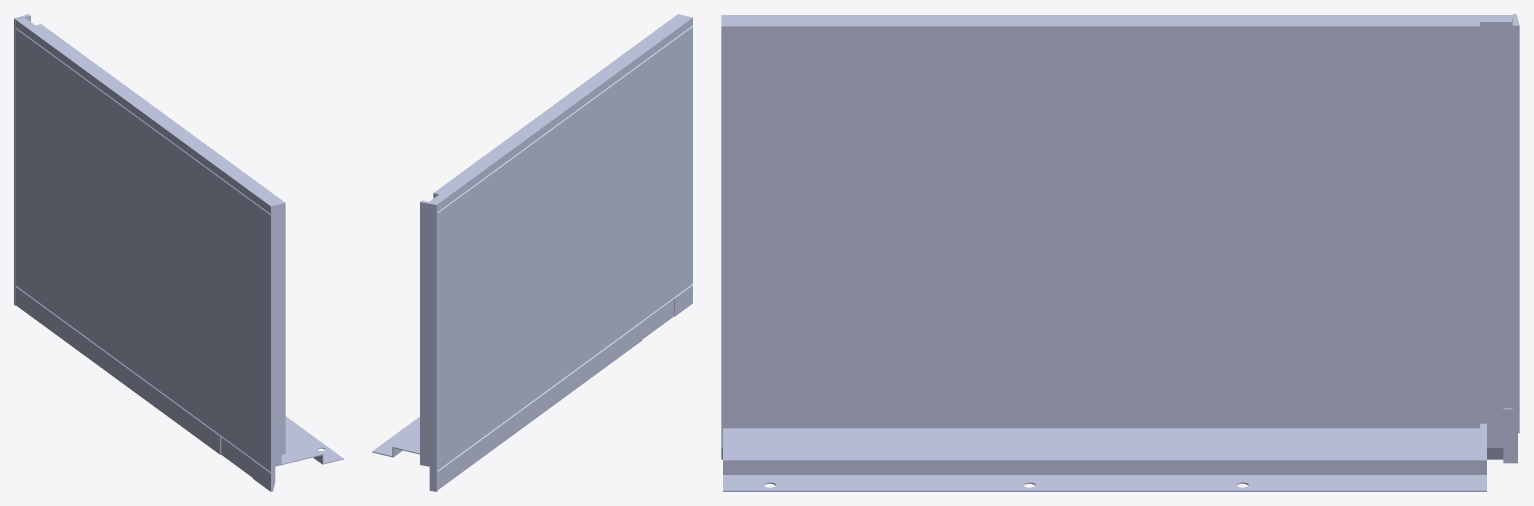
The model's file is lg-kava-F400-p.glb.
The picture shows the model from 3 angles, left to right: view 1: azimuth 30°, elevation 25°; view 2: azimuth 150°, elevation 25°; view 3: azimuth 270°, elevation 25°; orthographic projection. The views are drawn at different scales.
Visible parts, largest first — view 1: 45573279; view 2: 45573279; view 3: 45573279.
Part boxes in pixels (left/top/right/bottom): 45573279: left=14, top=14, right=343, bottom=491; 45573279: left=372, top=14, right=692, bottom=491; 45573279: left=721, top=14, right=1519, bottom=491.
Bounding box in the file's own units: 0.0653 × 0.2417 × 0.3935.
